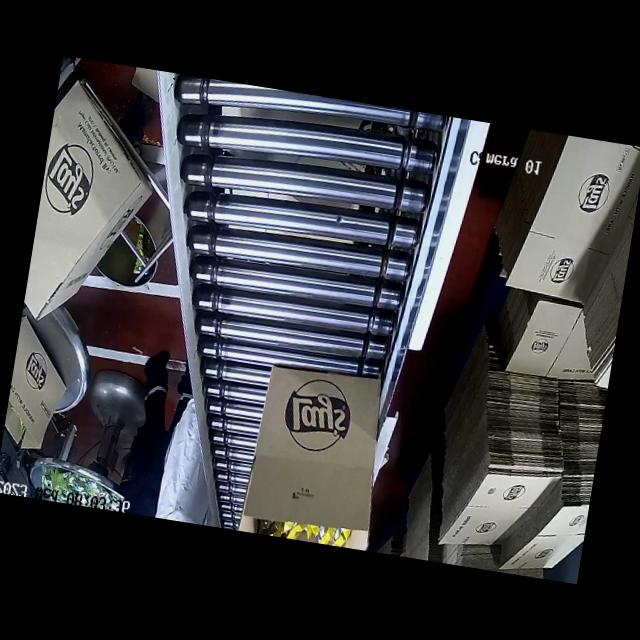salted: (257, 512, 361, 550)
